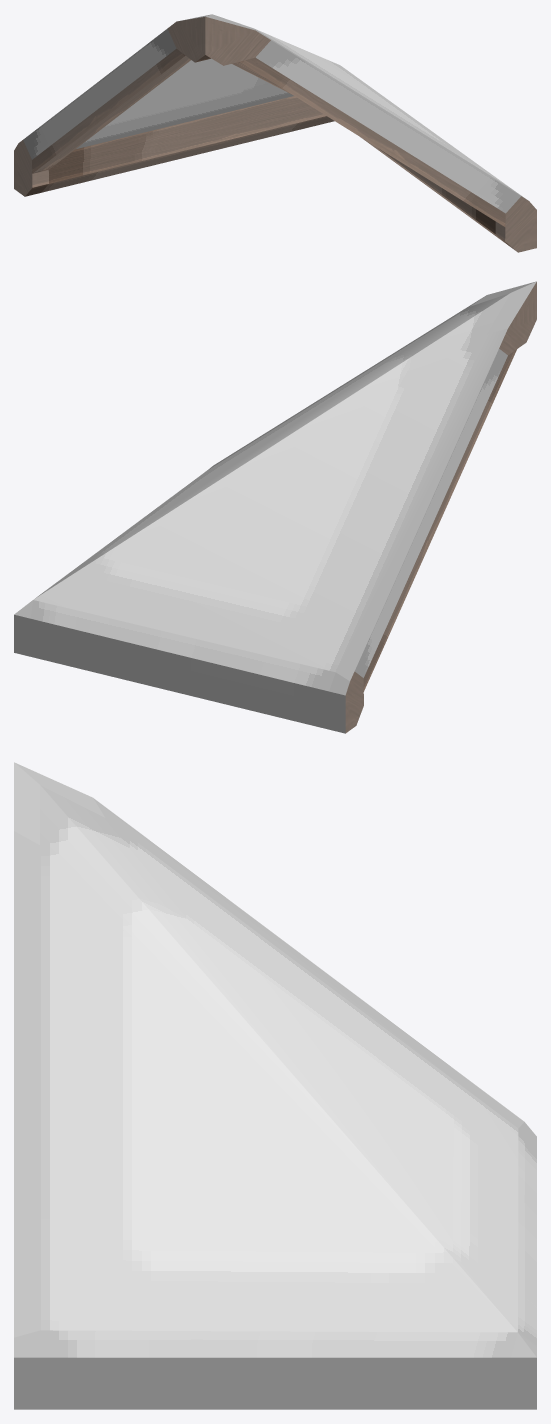
Rendered from SM_Ceiling_Wooden_Angle_02.fbx.
The picture shows the model from 3 angles, top to bottom: view 1: azimuth 30°, elevation 25°; view 2: azimuth 150°, elevation 25°; view 3: azimuth 270°, elevation 25°; orthographic projection. The views are drawn at different scales.
Visible parts, largest first — view 1: SM_Ceiling_Wooden_Angle_02; view 2: SM_Ceiling_Wooden_Angle_02; view 3: SM_Ceiling_Wooden_Angle_02.
Boxes of the visible parts, <box> form: SM_Ceiling_Wooden_Angle_02: <box>14,14,536,252</box>; SM_Ceiling_Wooden_Angle_02: <box>14,281,536,733</box>; SM_Ceiling_Wooden_Angle_02: <box>14,762,536,1409</box>.
Size of the model in its own units: 500 by 500 by 450.
